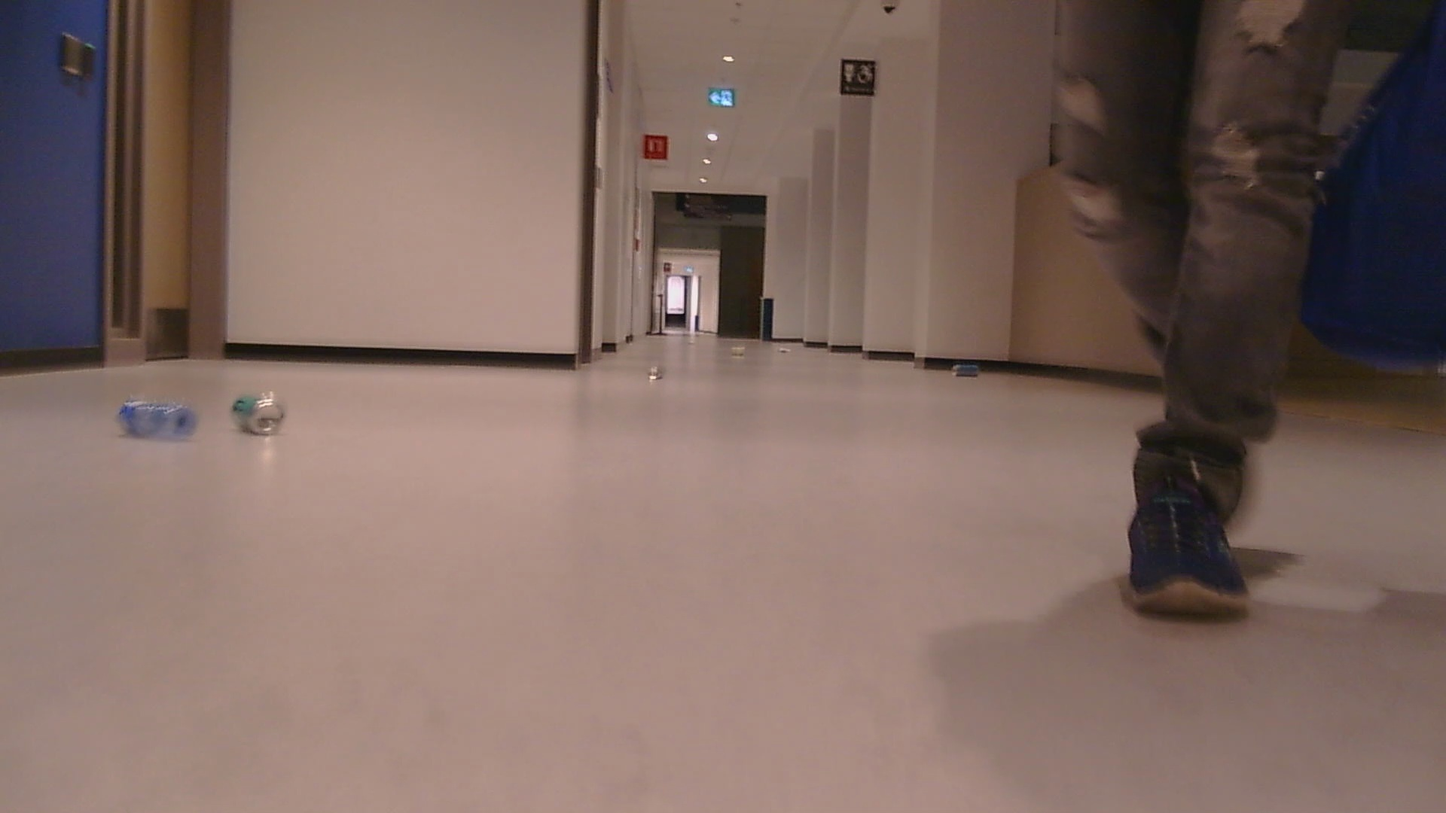carton: (113, 388, 196, 448), (218, 382, 293, 442), (944, 360, 1005, 381), (646, 358, 680, 385)
